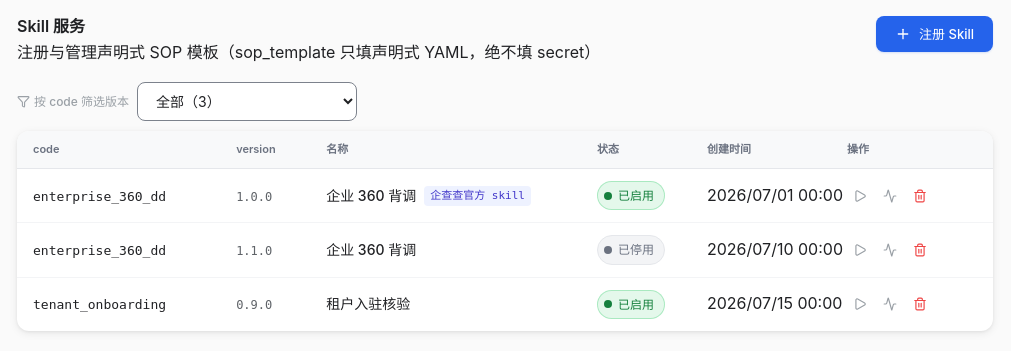
Test: SkillListView.vue (REQ-045 Task 4 / AC-10) › code filter narrows to same-code versions
Expected: the number of elements with test id "skill-row" is 3, top-left (17, 169), bottom-right (993, 223); top-left (17, 223), bottom-right (993, 278); top-left (33, 290), bottom-right (933, 319)
Select "enterprise_360_dd" in the dropdown with test id "code-filter": (247, 101) top-left (137, 82), bottom-right (357, 121)
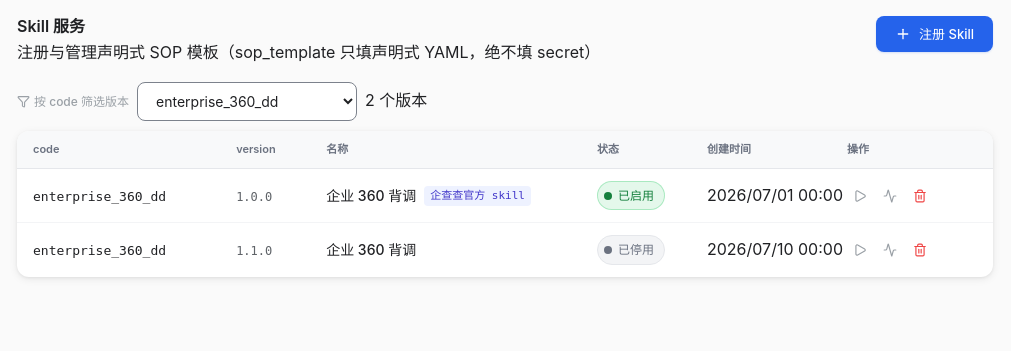
Expected: the text "1.0.0" is shown, top-left (236, 190), bottom-right (272, 204)
Expected: the number of elements with test id "skill-row" is 2, top-left (17, 169), bottom-right (993, 223); top-left (33, 235), bottom-right (933, 265)
Expected: the text "0.9.0" is gone
